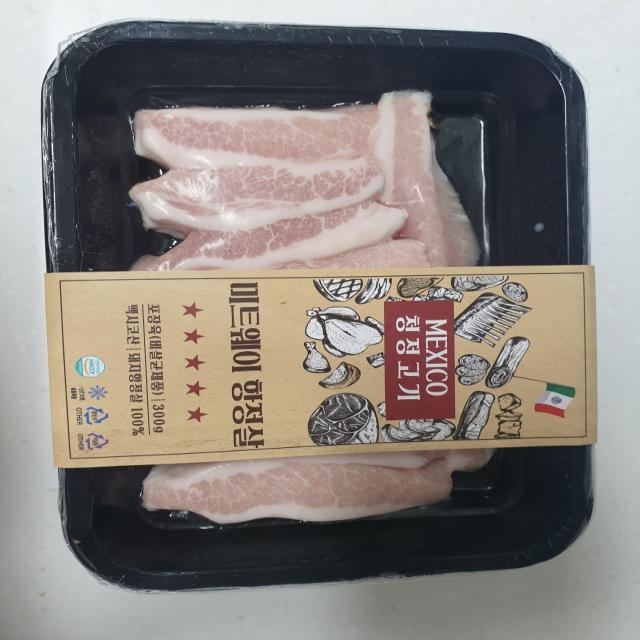pork: (66, 46, 580, 545)
